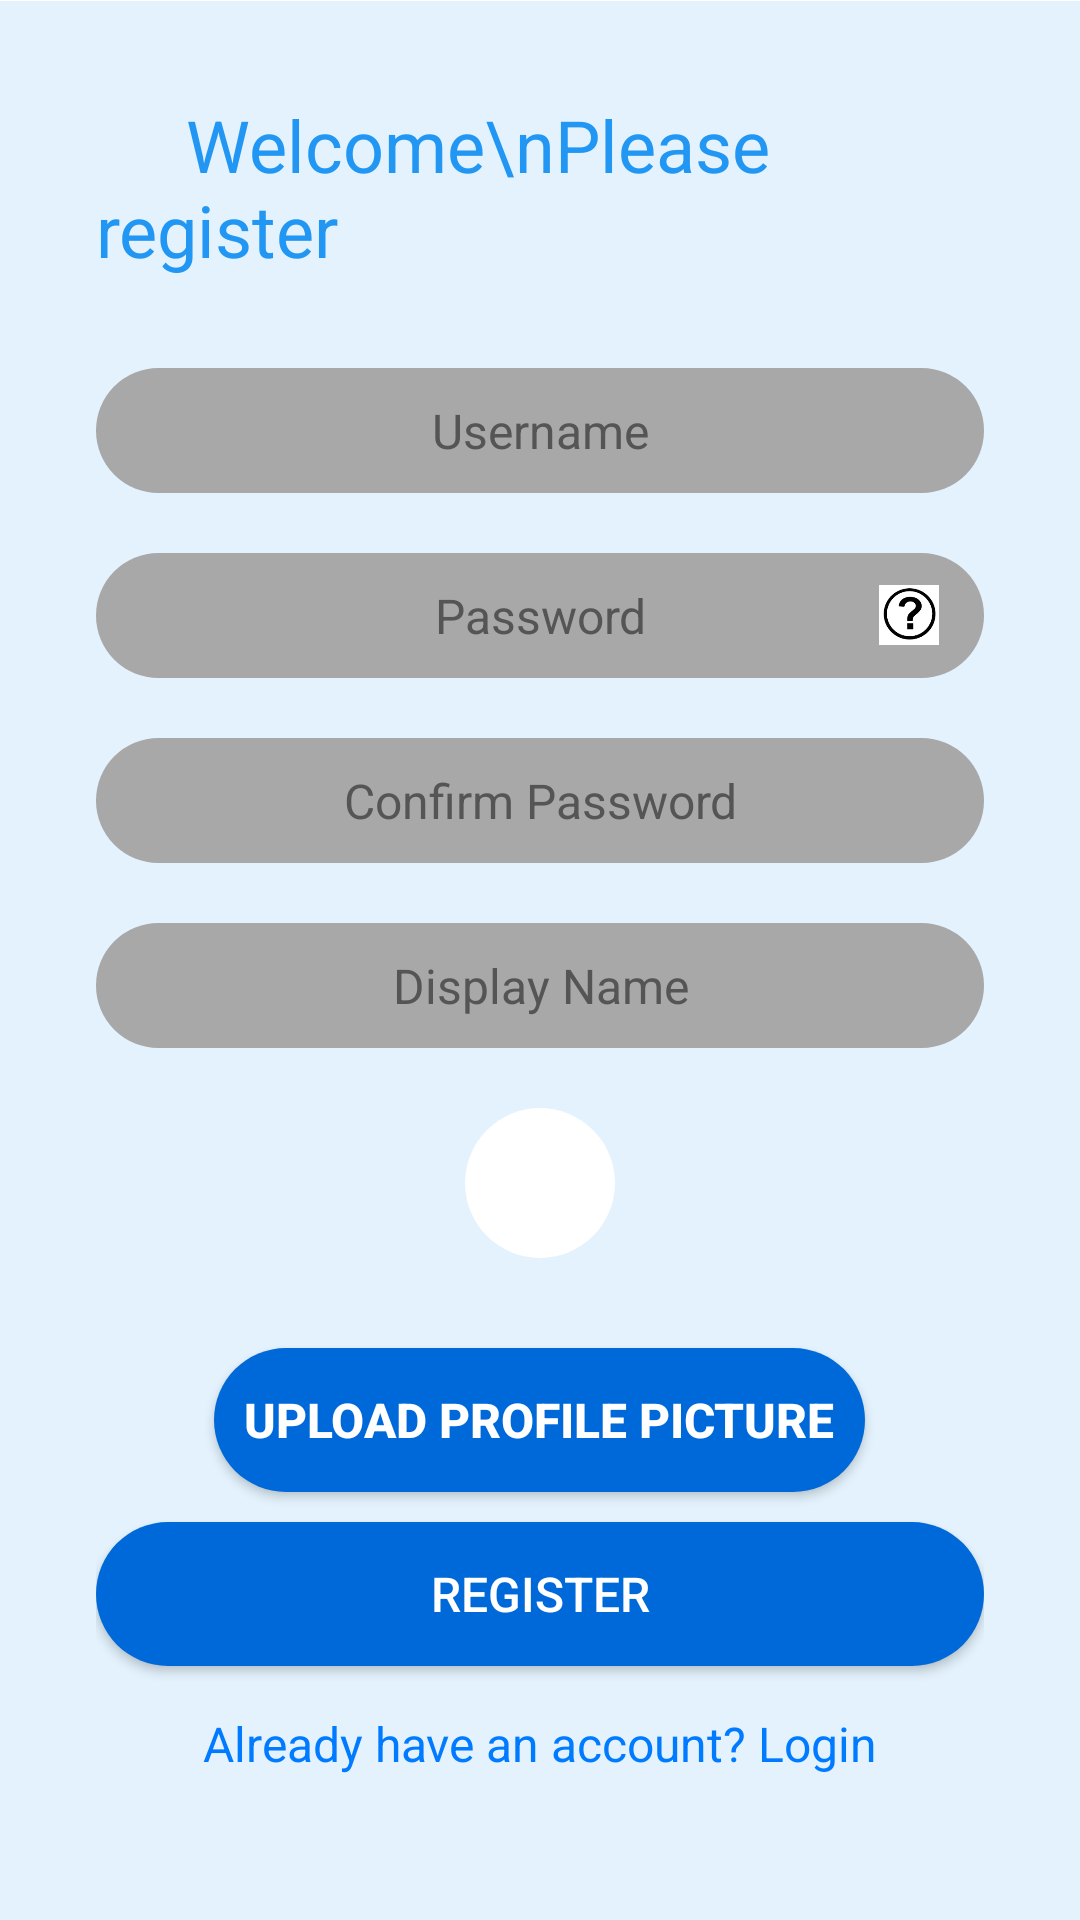

Screen size 1080w x 1920h. Icon name, then its center in pixels as [x,y]:
help: [909,615]
